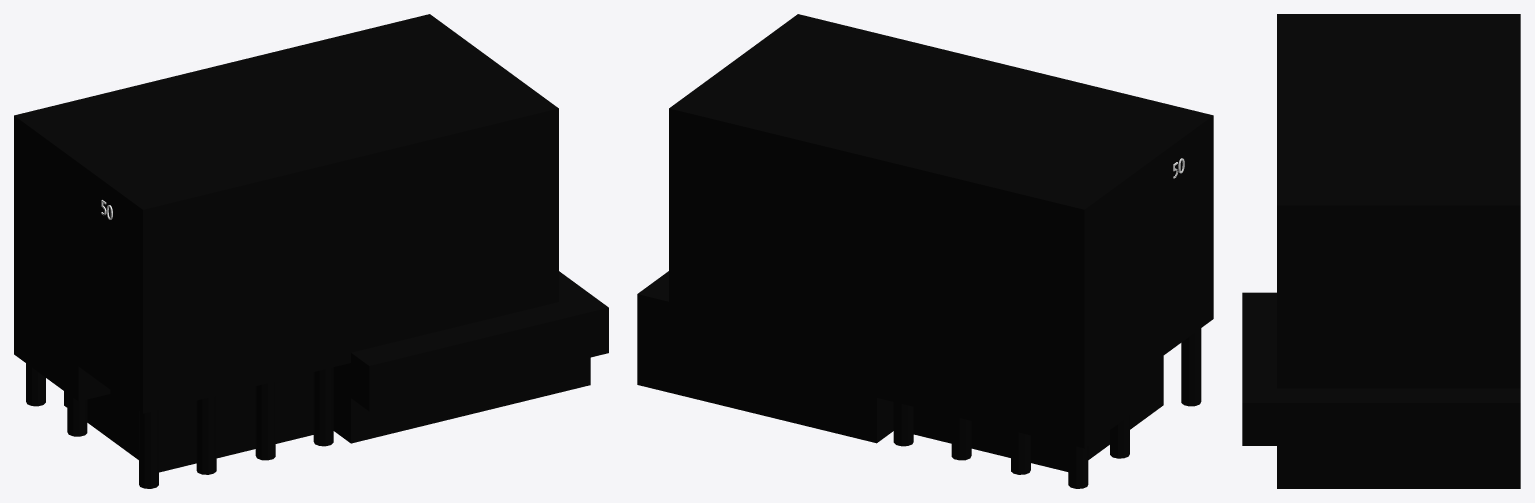
File: building_hongjae.gltf
3 views of the same model, side by side, from view 1: azimuth 30°, elevation 25°; view 2: azimuth 150°, elevation 25°; view 3: azimuth 270°, elevation 25° (orthographic). The views are drawn at different scales.
Visible parts, largest first — view 1: building_hongjae; view 2: building_hongjae; view 3: building_hongjae.
Boxes of the visible parts, <box> form: building_hongjae: <box>14,14,608,488</box>; building_hongjae: <box>637,14,1213,488</box>; building_hongjae: <box>1242,14,1520,488</box>.
Size of the model in its own units: 2.37 by 1.43 by 1.35.
Materials: 1 (1 with a texture image).
